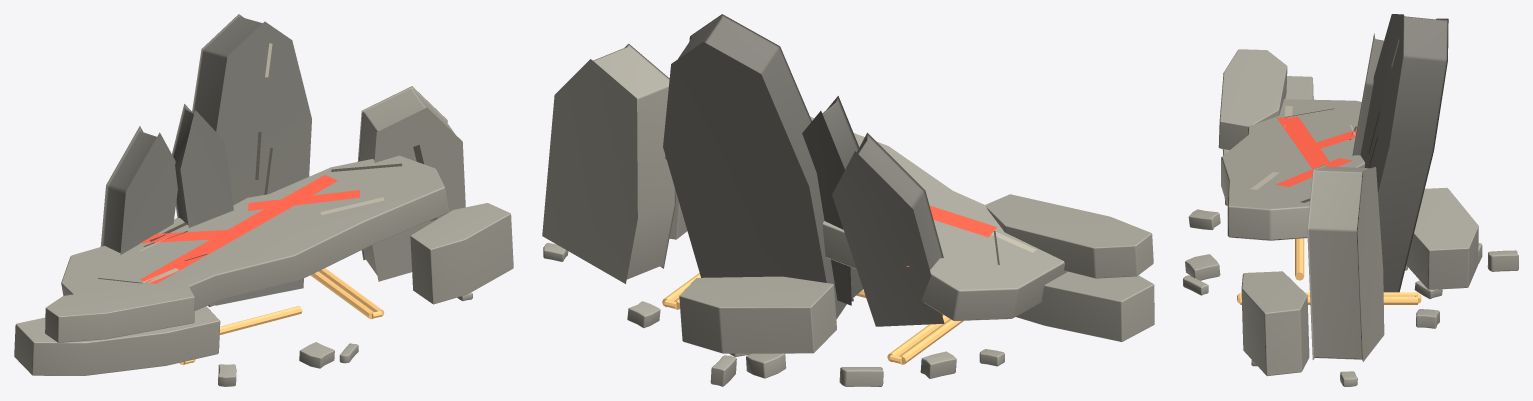
The model's file is SM_GIA_BloodAxeCairnSlabCluster_A01_TurnaroundRebuild_LOD1.fbx.
3 views of the same model, side by side, from view 1: azimuth 30°, elevation 25°; view 2: azimuth 150°, elevation 25°; view 3: azimuth 270°, elevation 25° (orthographic). The views are drawn at different scales.
Visible parts, largest first — view 1: A1_Turnaround_MainFallenPaintedSlab.001, A1_Turnaround_RearTallBrokenSlab.001, A1_Turnaround_RightRawhideUpright.001, A1_Turnaround_LeftFrontStackBase.001, A1_Turnaround_RightSupportStone.001, A1_Turnaround_LeftFrontStackCap.001, A1_Turnaround_LeftRearShard.001, A1_Turnaround_CenterNarrowShard.001, A1_Turnaround_MainPaint_LongStroke.001, A1_Turnaround_MainPaint_CrossStrokeB.001, A1_Turnaround_MainPaint_CrossStrokeA.001, A1_Turnaround_RightUprightFrontLashing.001 (+4 smaller); view 2: A1_Turnaround_RearTallBrokenSlab.001, A1_Turnaround_RightRawhideUpright.001, A1_Turnaround_LeftRearShard.001, A1_Turnaround_MainFallenPaintedSlab.001, A1_Turnaround_BackRootStone.001, A1_Turnaround_LeftFrontStackCap.001, A1_Turnaround_LeftFrontStackBase.001, A1_Turnaround_CenterNarrowShard.001, A1_Turnaround_Pebble_09.001, A1_Turnaround_Pebble_06, A1_Turnaround_MainPaint_LongStroke.001, A1_Turnaround_Pebble_00.001 (+4 smaller); view 3: A1_Turnaround_RearTallBrokenSlab.001, A1_Turnaround_RightRawhideUpright.001, A1_Turnaround_MainFallenPaintedSlab.001, A1_Turnaround_RightSupportStone.001, A1_Turnaround_BackRootStone.001, A1_Turnaround_LeftFrontStackCap.001, A1_Turnaround_MainPaint_LongStroke.001, A1_Turnaround_CenterNarrowShard.001, A1_Turnaround_Pebble_01, A1_Turnaround_LeftFrontStackBase.001, A1_Turnaround_Pebble_10, A1_Turnaround_Pebble_16 (+6 smaller).
Boxes of the visible parts, x1=… form: A1_Turnaround_MainFallenPaintedSlab.001: x1=61, y1=155, x2=449, y2=310; A1_Turnaround_RearTallBrokenSlab.001: x1=192, y1=14, x2=311, y2=305; A1_Turnaround_RightRawhideUpright.001: x1=357, y1=86, x2=465, y2=281; A1_Turnaround_LeftFrontStackBase.001: x1=14, y1=306, x2=220, y2=375; A1_Turnaround_RightSupportStone.001: x1=410, y1=203, x2=513, y2=304; A1_Turnaround_LeftFrontStackCap.001: x1=45, y1=283, x2=194, y2=342; A1_Turnaround_LeftRearShard.001: x1=100, y1=126, x2=177, y2=254; A1_Turnaround_CenterNarrowShard.001: x1=172, y1=104, x2=233, y2=227; A1_Turnaround_MainPaint_LongStroke.001: x1=140, y1=175, x2=337, y2=283; A1_Turnaround_MainPaint_CrossStrokeB.001: x1=248, y1=190, x2=359, y2=210; A1_Turnaround_MainPaint_CrossStrokeA.001: x1=140, y1=229, x2=238, y2=243; A1_Turnaround_RightUprightFrontLashing.001: x1=219, y1=306, x2=302, y2=334; A1_Turnaround_RearTallBrokenSlab.001: x1=663, y1=14, x2=853, y2=319; A1_Turnaround_RightRawhideUpright.001: x1=542, y1=43, x2=675, y2=283; A1_Turnaround_LeftRearShard.001: x1=832, y1=132, x2=944, y2=326; A1_Turnaround_MainFallenPaintedSlab.001: x1=665, y1=116, x2=1067, y2=320; A1_Turnaround_BackRootStone.001: x1=679, y1=276, x2=836, y2=353; A1_Turnaround_LeftFrontStackCap.001: x1=985, y1=194, x2=1153, y2=278; A1_Turnaround_LeftFrontStackBase.001: x1=1016, y1=271, x2=1154, y2=341; A1_Turnaround_CenterNarrowShard.001: x1=802, y1=96, x2=863, y2=305; A1_Turnaround_Pebble_09.001: x1=746, y1=353, x2=786, y2=378; A1_Turnaround_Pebble_06: x1=839, y1=367, x2=883, y2=386; A1_Turnaround_MainPaint_LongStroke.001: x1=929, y1=205, x2=996, y2=237; A1_Turnaround_Pebble_00.001: x1=920, y1=351, x2=956, y2=378; A1_Turnaround_RearTallBrokenSlab.001: x1=1360, y1=14, x2=1448, y2=292; A1_Turnaround_RightRawhideUpright.001: x1=1307, y1=165, x2=1384, y2=361; A1_Turnaround_MainFallenPaintedSlab.001: x1=1221, y1=99, x2=1364, y2=240; A1_Turnaround_RightSupportStone.001: x1=1241, y1=271, x2=1309, y2=376; A1_Turnaround_BackRootStone.001: x1=1406, y1=187, x2=1478, y2=289; A1_Turnaround_LeftFrontStackCap.001: x1=1218, y1=49, x2=1287, y2=150; A1_Turnaround_MainPaint_LongStroke.001: x1=1277, y1=117, x2=1332, y2=168; A1_Turnaround_CenterNarrowShard.001: x1=1352, y1=33, x2=1383, y2=155; A1_Turnaround_Pebble_01: x1=1185, y1=254, x2=1220, y2=280; A1_Turnaround_LeftFrontStackBase.001: x1=1222, y1=76, x2=1313, y2=205; A1_Turnaround_Pebble_10: x1=1487, y1=250, x2=1518, y2=271; A1_Turnaround_Pebble_16: x1=1188, y1=209, x2=1220, y2=230.
Bounding box in the file's own units: 18228 × 32581 × 16957.
